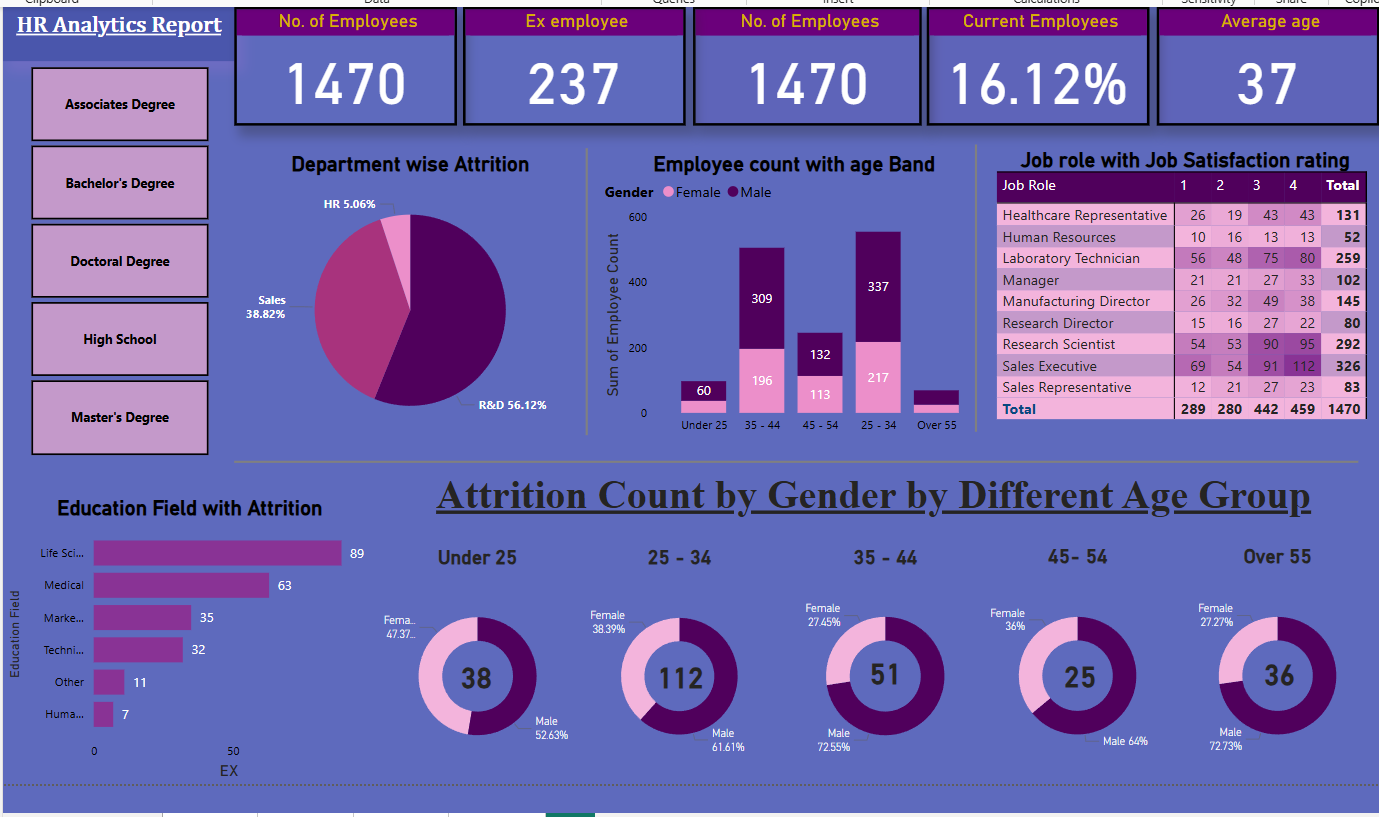

The page's visual inventory and layout, read from the dashboard file:
{"tool":"powerbi","page":{"name":"Page 3","canvas":[1280,723],"ordinal":3},"visuals":[{"type":"textbox","box":[0,0,215.1,50],"z":0},{"type":"slicer","fields":{"Values":["Table1.Education"]},"box":[0,49.4,215.4,374.6],"z":1000},{"type":"card","title":"No. of Employees","fields":{"Values":["Sum(Table1.Employee Count)"]},"box":[215.1,0,207,110.5],"z":2000},{"type":"card","title":"No. of Employees","fields":{"Values":["Sum(Table1.Employee Count)"]},"box":[641.9,0,212.8,110.5],"z":3000},{"type":"card","title":"Ex employee","fields":{"Values":["Table1.EX"]},"box":[427.9,0,207,110.5],"z":4000},{"type":"card","title":"Current Employees","fields":{"Values":["Table1.percentage of ex"]},"box":[859.3,0,207,110.5],"z":5000},{"type":"card","title":"Average age","fields":{"Values":["Avg(Table1.Age)"]},"box":[1073.3,0,207,110.5],"z":6000},{"type":"pieChart","title":"Department wise Attrition","fields":{"Category":["Table1.Department"],"Y":["Table1.EX"]},"box":[215.1,134.9,327.9,277.9],"z":7000},{"type":"pivotTable","title":"Job role with Job Satisfaction  rating","fields":{"Rows":["Table1.Job Role"],"Columns":["Table1.Job Satisfaction"],"Values":["Sum(Table1.Employee Count)"]},"box":[919.8,131.4,360.5,284.9],"z":8000},{"type":"columnChart","title":"Employee count with age Band","fields":{"Category":["Table1.CF_age band"],"Y":["Sum(Table1.Employee Count)"],"Series":["Table1.Gender"]},"box":[554.7,134.9,362.8,270.9],"z":9000},{"type":"barChart","title":"Education Field with Attrition","fields":{"Category":["Table1.Education Field"],"Y":["Table1.EX"]},"box":[0,454.7,347.7,268.6],"z":10000},{"type":"textbox","box":[347.7,426.7,924.4,54.7],"z":11000},{"type":"donutChart","title":"Under 25","fields":{"Category":["Table1.Gender"],"Y":["Table1.EX"]},"box":[347.2,500.9,188,222.3],"z":12000},{"type":"donutChart","title":"25 - 34","fields":{"Y":["Table1.EX"],"Category":["Table1.Gender"]},"box":[536.5,500.9,186.6,222.3],"z":13000},{"type":"donutChart","title":"35 - 44","fields":{"Y":["Table1.EX"],"Category":["Table1.Gender"]},"box":[726.7,500.9,188.4,222.1],"z":14000},{"type":"donutChart","title":"45- 54","fields":{"Y":["Table1.EX"],"Category":["Table1.Gender"]},"box":[905.7,499.5,188,223.7],"z":15000},{"type":"donutChart","title":"Over 55","fields":{"Y":["Table1.EX"],"Category":["Table1.Gender"]},"box":[1092.3,499.5,188,223.7],"z":16000},{"type":"card","fields":{"Values":["Table1.EX"]},"box":[414,594.2,53.5,58.1],"z":17000},{"type":"card","fields":{"Values":["Table1.EX"]},"box":[603.8,594.2,53.5,57.6],"z":18000},{"type":"card","fields":{"Values":["Table1.EX"]},"box":[794.2,590.7,53.5,58.1],"z":19000},{"type":"card","fields":{"Values":["Table1.EX"]},"box":[975.6,592.8,53.5,57.6],"z":20000},{"type":"card","fields":{"Values":["Table1.EX"]},"box":[1149.9,577.7,75.5,85.1],"z":21000},{"type":"shape","box":[531.4,131.4,23.3,267.4],"z":22000},{"type":"shape","box":[890.7,127.9,29.1,267.4],"z":23000},{"type":"shape","box":[215.1,416.3,1045.4,14],"z":24000}]}

Visuals, with their boxes on the page's 1280x723 design canvas (x1, y1, x2, y2). These are canvas units, not pixel positions in the 1379x817 screenshot, which may show the page scaled, cropped or inside an application window:
textbox: select_region(0, 0, 215, 50)
slicer - Table1.Education: select_region(0, 49, 215, 424)
"No. of Employees" card: select_region(215, 0, 422, 110)
"No. of Employees" card: select_region(642, 0, 855, 110)
"Ex employee" card: select_region(428, 0, 635, 110)
"Current Employees" card: select_region(859, 0, 1066, 110)
"Average age" card: select_region(1073, 0, 1280, 110)
"Department wise Attrition" pieChart: select_region(215, 135, 543, 413)
"Job role with Job Satisfaction  rating" pivotTable: select_region(920, 131, 1280, 416)
"Employee count with age Band" columnChart: select_region(555, 135, 918, 406)
"Education Field with Attrition" barChart: select_region(0, 455, 348, 723)
textbox: select_region(348, 427, 1272, 481)
"Under 25" donutChart: select_region(347, 501, 535, 723)
"25 - 34" donutChart: select_region(536, 501, 723, 723)
"35 - 44" donutChart: select_region(727, 501, 915, 723)
"45- 54" donutChart: select_region(906, 500, 1094, 723)
"Over 55" donutChart: select_region(1092, 500, 1280, 723)
card - Table1.EX: select_region(414, 594, 468, 652)
card - Table1.EX: select_region(604, 594, 657, 652)
card - Table1.EX: select_region(794, 591, 848, 649)
card - Table1.EX: select_region(976, 593, 1029, 650)
card - Table1.EX: select_region(1150, 578, 1225, 663)
shape: select_region(531, 131, 555, 399)
shape: select_region(891, 128, 920, 395)
shape: select_region(215, 416, 1260, 430)
